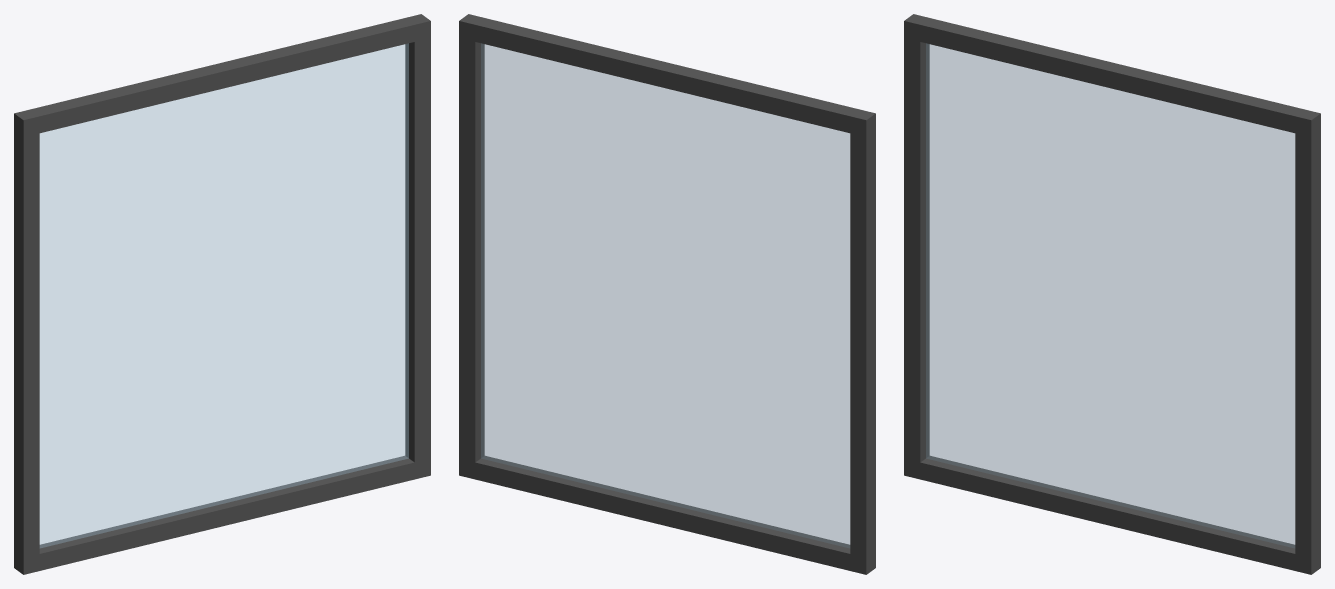
File: ventana-serie35.glb
3 renders of one model, left to right at view 1: azimuth 30°, elevation 25°; view 2: azimuth 150°, elevation 25°; view 3: azimuth 330°, elevation 25°, orthographic.
Visible parts, largest first — view 1: Vidrio, Marco; view 2: Vidrio, Marco; view 3: Vidrio, Marco.
Part boxes in pixels (x1,y1,x2,y2): Vidrio: [40, 43, 408, 547]; Marco: [14, 14, 430, 574]; Vidrio: [481, 43, 849, 547]; Marco: [459, 14, 875, 574]; Vidrio: [926, 43, 1294, 547]; Marco: [904, 14, 1320, 574].
Size of the model in its own units: 1.5 by 1.6 by 0.06.
